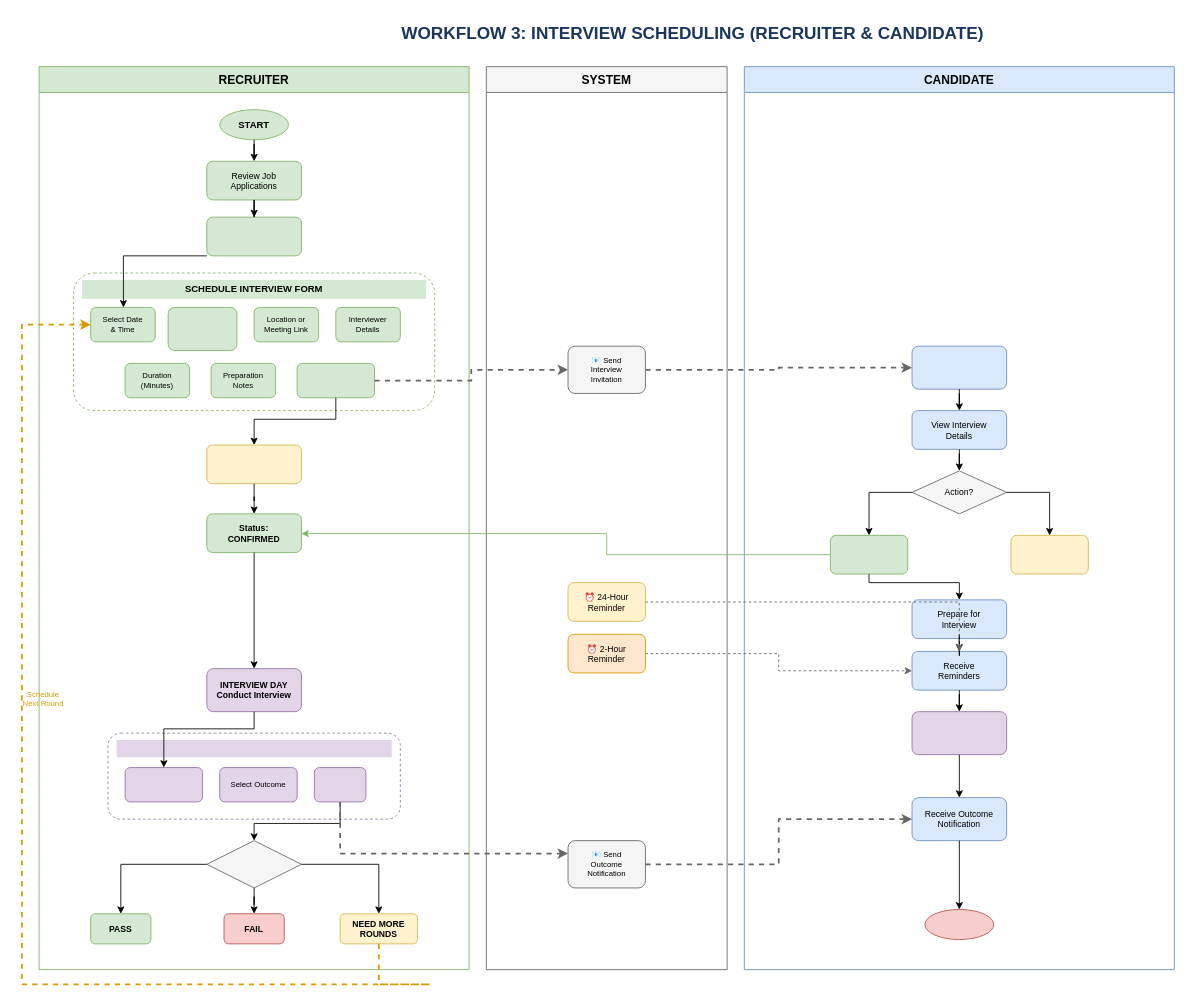
Image size: 1189x1006. Some labels were removed from this diagram. Each missing label, with the centre of its shape:
Add Interviewer Notes: the point at 163,784
COMPLETE INTERVIEW: the point at 253,748
Confirm Attendance: the point at 868,554
END: the point at 959,924
INTERVIEW DAY Attend Interview: the point at 959,733
Interview Type (Video/Phone/ In-Person): the point at 202,328
Outcome?: the point at 253,864
Receive Interview Invitation: the point at 959,367
Request Reschedule: the point at 1049,554
Select Candidate for Interview: the point at 253,236
Send Invitation: the point at 335,380
Submit: the point at 339,784
Wait for Confirmation: the point at 253,464
